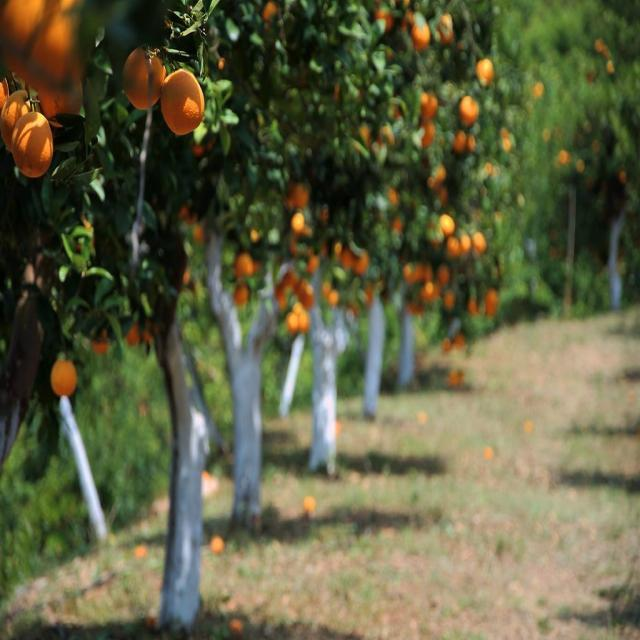Orange: (0, 0, 74, 72), (3, 85, 58, 180), (150, 62, 198, 134), (123, 45, 160, 112), (40, 76, 77, 120), (52, 351, 79, 395), (456, 89, 478, 129), (235, 250, 265, 276), (287, 304, 313, 334), (476, 52, 492, 88), (290, 206, 306, 240), (411, 18, 431, 44), (437, 11, 451, 39), (327, 277, 339, 307), (234, 284, 252, 300)
